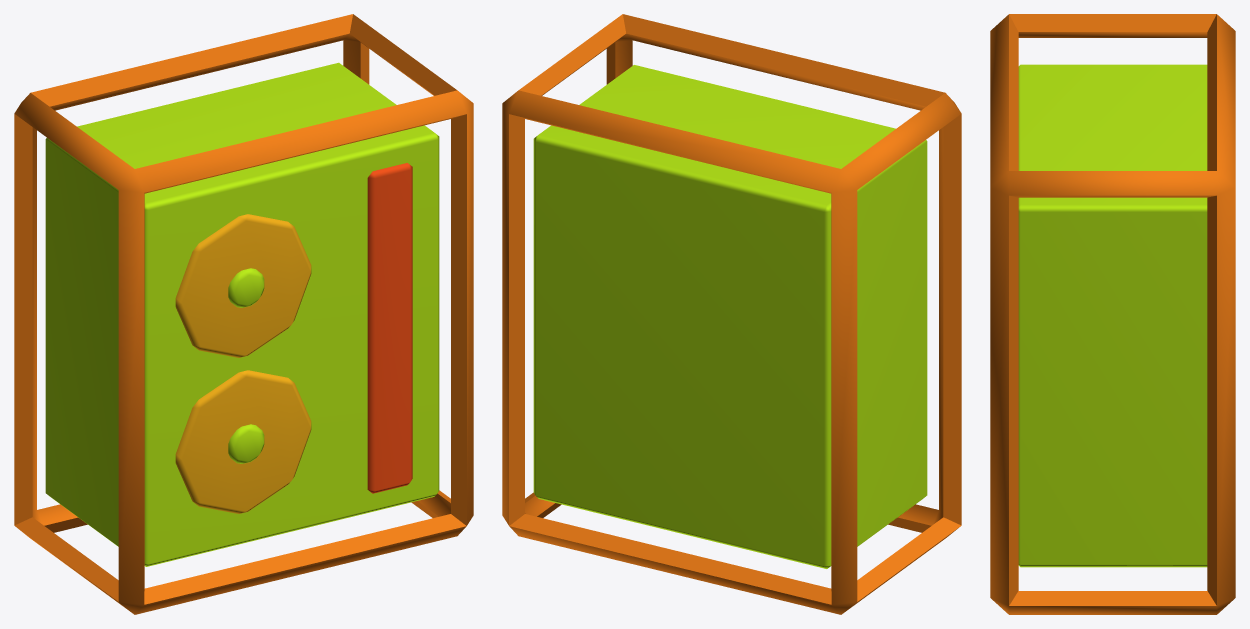
Rendered from Ventilator.fbx.
3 views of the same model, side by side, from view 1: azimuth 30°, elevation 25°; view 2: azimuth 150°, elevation 25°; view 3: azimuth 270°, elevation 25° (orthographic).
Parts seen in each view (by area): view 1: stage_d_physics_sm_new_009; view 2: stage_d_physics_sm_new_009; view 3: stage_d_physics_sm_new_009.
Boxes of the visible parts, <box> form: stage_d_physics_sm_new_009: <box>14,14,473,614</box>; stage_d_physics_sm_new_009: <box>502,14,961,614</box>; stage_d_physics_sm_new_009: <box>990,14,1235,614</box>.
Bounding box in the file's own units: 100 × 120 × 60.
1 material, 1 textured.
